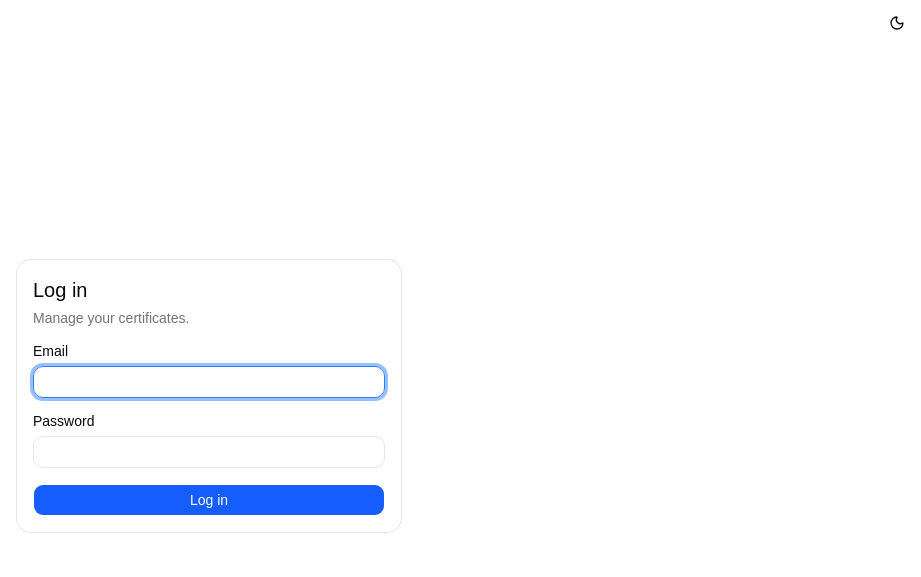
it: LoginPage › explains when login is temporarily blocked
Type "owner@example.com" into the field labelled "Email" at (209, 382), box [33,366,385,398]
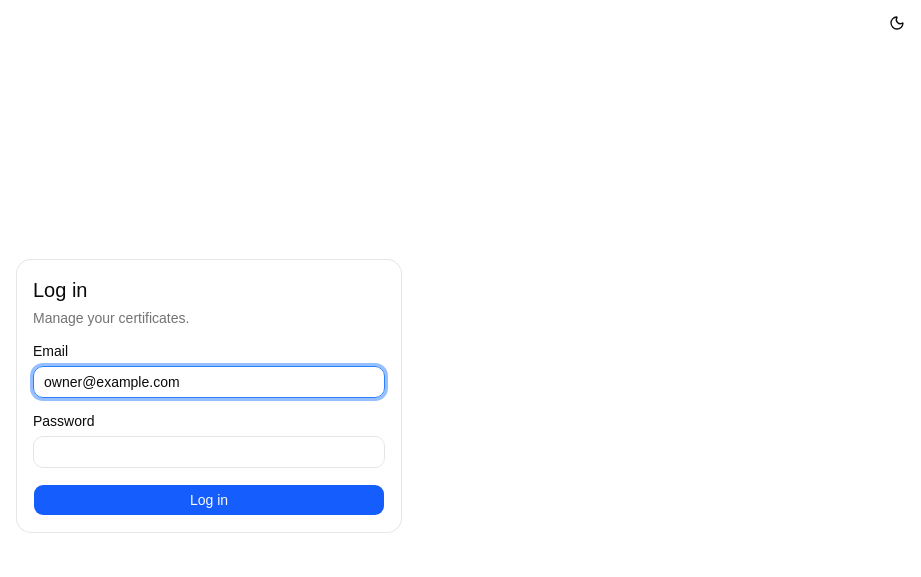
Type "whatever-password" into the password field labelled "Password" at (209, 452), box [33,436,385,468]
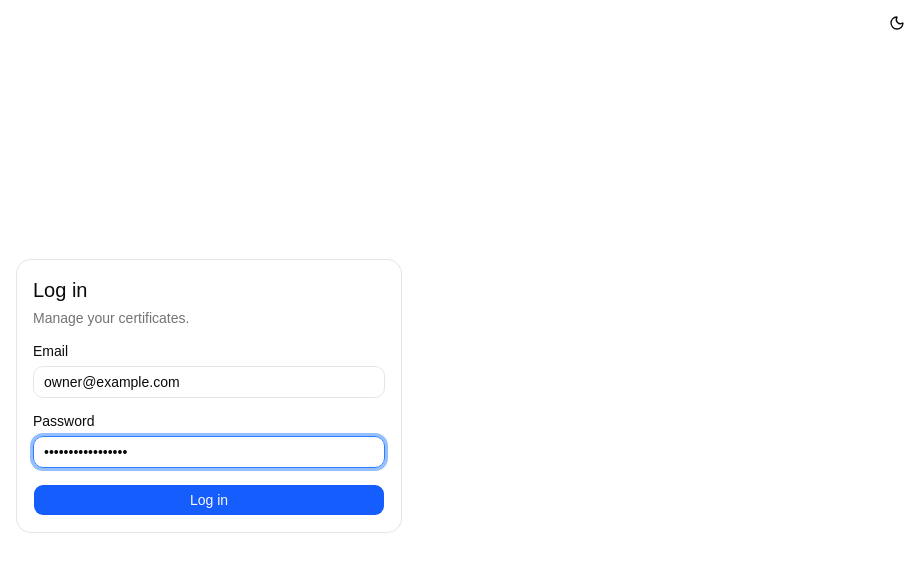
Click the button "Log in" at (209, 500), box [33,484,385,516]
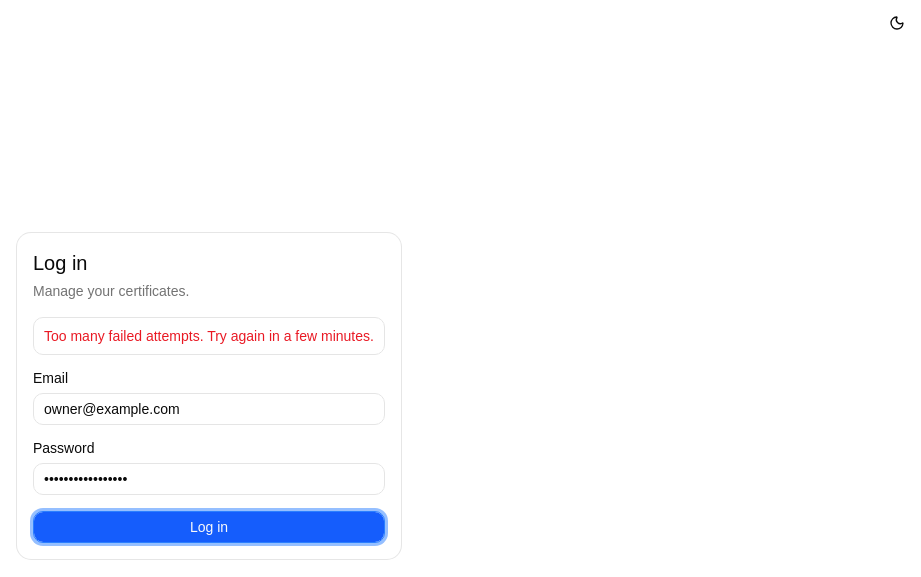
Expected: the message shows "Too many failed attempts", [44,328,374,344]
